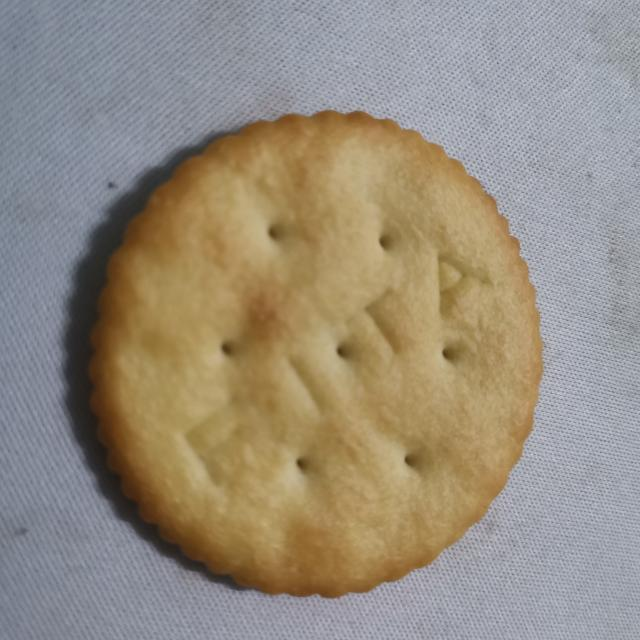Intact: (67, 101, 564, 607)
